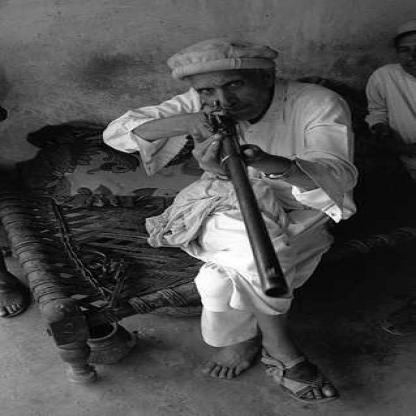rifle: (162, 105, 316, 332)
